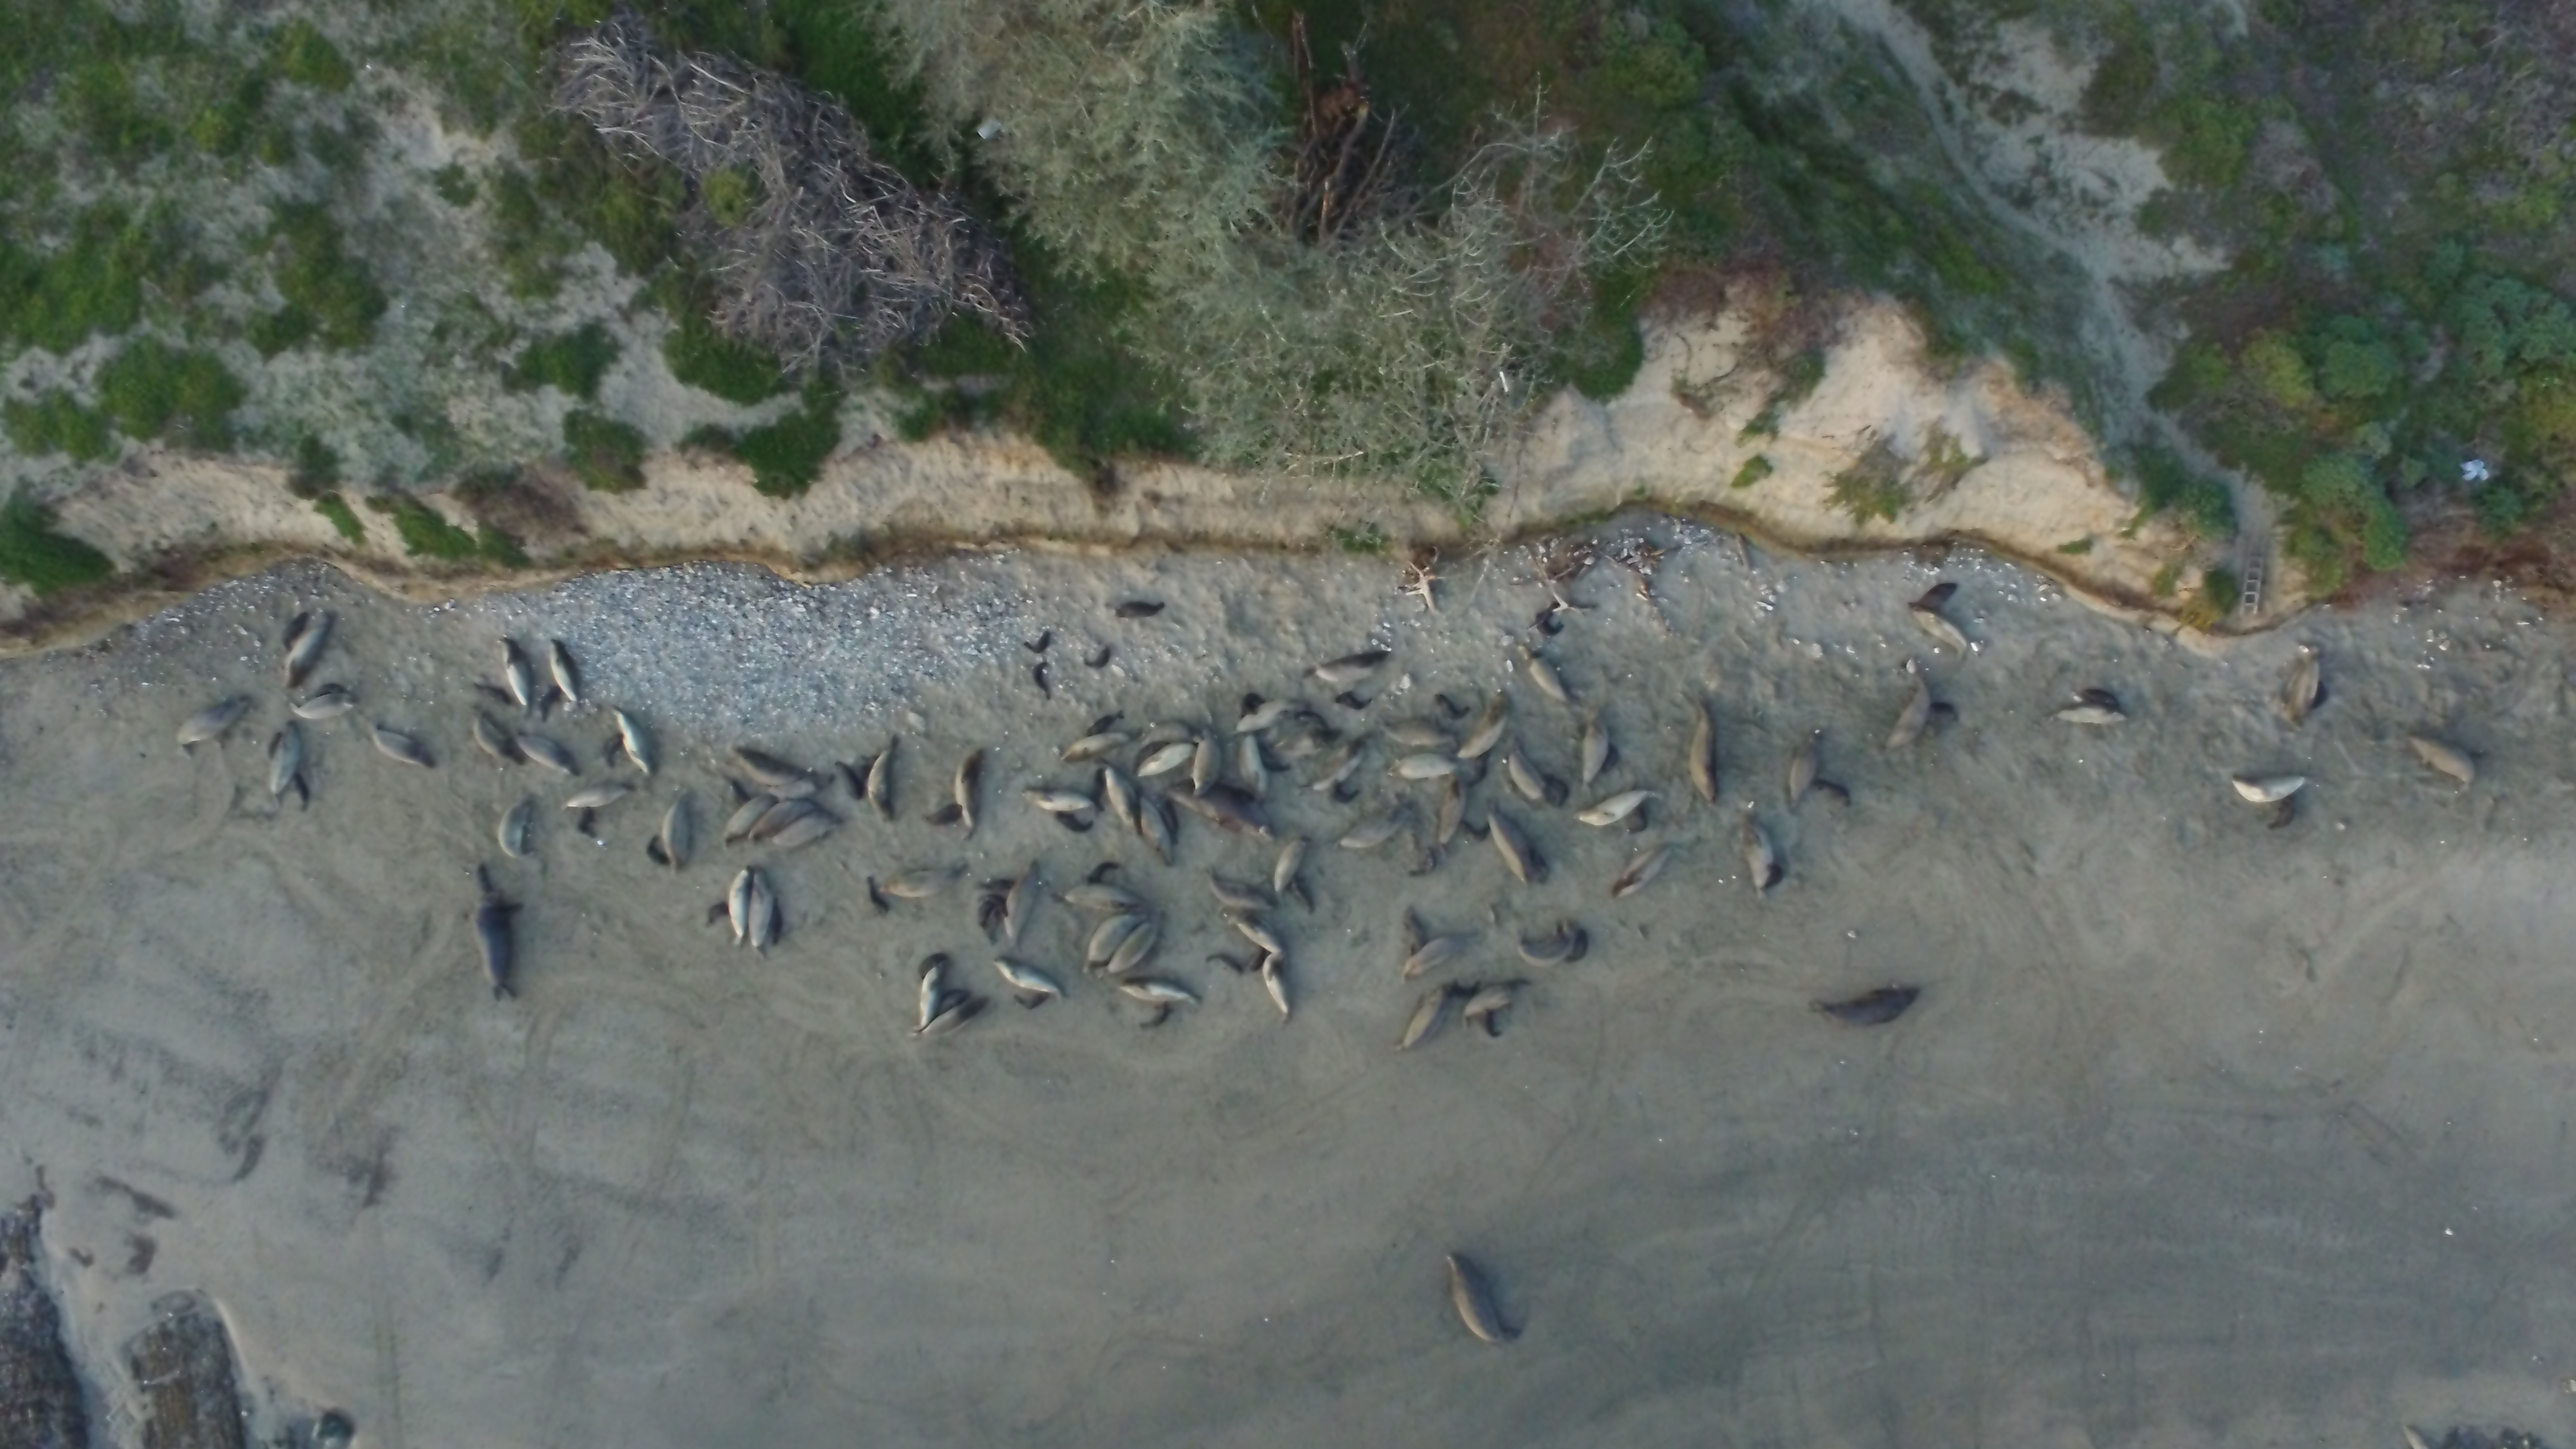adult male: (1162, 780, 1276, 842), (1444, 1253, 1520, 1345), (476, 865, 524, 1001), (1810, 987, 1918, 1028), (1686, 694, 1721, 807)
male juvenile / female juvenile / adult female: (175, 695, 251, 757), (1081, 913, 1154, 977), (1612, 842, 1688, 901), (1300, 734, 1373, 793), (1336, 798, 1415, 851), (280, 610, 334, 686), (1104, 909, 1162, 980), (1399, 931, 1479, 982), (1520, 646, 1583, 709), (1484, 809, 1537, 883), (1461, 977, 1532, 1031), (1454, 692, 1513, 757), (1882, 676, 1932, 752), (2404, 732, 2477, 784), (1396, 984, 1451, 1051), (1575, 787, 1665, 826), (1907, 603, 1969, 660), (993, 957, 1069, 1003), (1736, 810, 1776, 893), (2281, 646, 2319, 732), (748, 798, 817, 846), (727, 748, 812, 786), (366, 725, 437, 770), (612, 706, 656, 777), (1205, 869, 1276, 913), (1219, 911, 1286, 957), (1005, 860, 1039, 950), (1300, 653, 1391, 686), (1060, 731, 1141, 768), (720, 793, 777, 846), (472, 706, 524, 764), (513, 732, 580, 777), (1789, 727, 1821, 816), (1507, 740, 1548, 809), (874, 867, 966, 897), (1054, 885, 1146, 915), (865, 740, 897, 826), (955, 748, 985, 839), (1518, 925, 1578, 970), (771, 810, 842, 847), (499, 639, 533, 717), (913, 961, 948, 1033), (1115, 978, 1205, 1007), (1376, 717, 1461, 747), (269, 720, 303, 794), (497, 800, 538, 860), (922, 998, 987, 1035), (1191, 720, 1223, 796), (663, 789, 692, 874), (1437, 768, 1467, 847), (1267, 729, 1341, 761), (1387, 752, 1467, 780), (1274, 839, 1309, 901), (1237, 702, 1309, 732), (1021, 787, 1102, 814), (2231, 775, 2312, 801), (1136, 720, 1203, 752), (1261, 952, 1292, 1023), (727, 867, 754, 947), (561, 784, 635, 812), (1132, 743, 1196, 775), (1238, 732, 1269, 800), (754, 773, 835, 798), (550, 639, 580, 702), (750, 865, 771, 950), (290, 694, 357, 720), (2049, 706, 2127, 724), (603, 732, 625, 768)
pup: (1913, 582, 1957, 614), (1806, 778, 1851, 809), (833, 761, 865, 800), (1253, 741, 1290, 773), (2077, 690, 2121, 715), (1288, 874, 1315, 915), (1463, 750, 1490, 791), (1134, 741, 1169, 771), (281, 610, 306, 653), (1405, 904, 1426, 954), (1541, 775, 1569, 810), (2268, 791, 2295, 828), (1051, 810, 1093, 833), (1157, 798, 1180, 840), (1085, 713, 1123, 738), (1141, 1001, 1175, 1030), (934, 989, 970, 1016), (1437, 694, 1472, 720), (984, 904, 1007, 945), (1408, 846, 1438, 876), (922, 805, 964, 826), (1456, 819, 1490, 846), (865, 878, 890, 913), (1205, 954, 1246, 975), (1537, 605, 1562, 639), (1295, 711, 1330, 734), (973, 901, 1001, 929), (918, 954, 947, 982), (540, 685, 559, 725), (474, 683, 511, 704), (646, 835, 671, 867), (1529, 847, 1550, 885), (1566, 929, 1589, 962), (1088, 764, 1104, 812), (292, 773, 311, 812), (706, 901, 732, 929), (1249, 938, 1269, 975), (1442, 982, 1483, 1000), (1086, 863, 1120, 885), (1626, 798, 1647, 832), (1118, 602, 1168, 616), (727, 778, 750, 809), (978, 893, 1008, 916), (577, 805, 596, 839), (1033, 660, 1049, 701), (1479, 1008, 1500, 1039), (1336, 694, 1375, 709), (770, 897, 782, 947), (1086, 646, 1111, 671), (1601, 740, 1619, 773), (1240, 694, 1265, 717), (1014, 994, 1053, 1008), (1330, 782, 1359, 801), (1024, 632, 1049, 653), (1766, 863, 1783, 892), (1928, 702, 1957, 720), (973, 879, 1019, 890), (2311, 679, 2327, 709), (313, 685, 345, 699)
